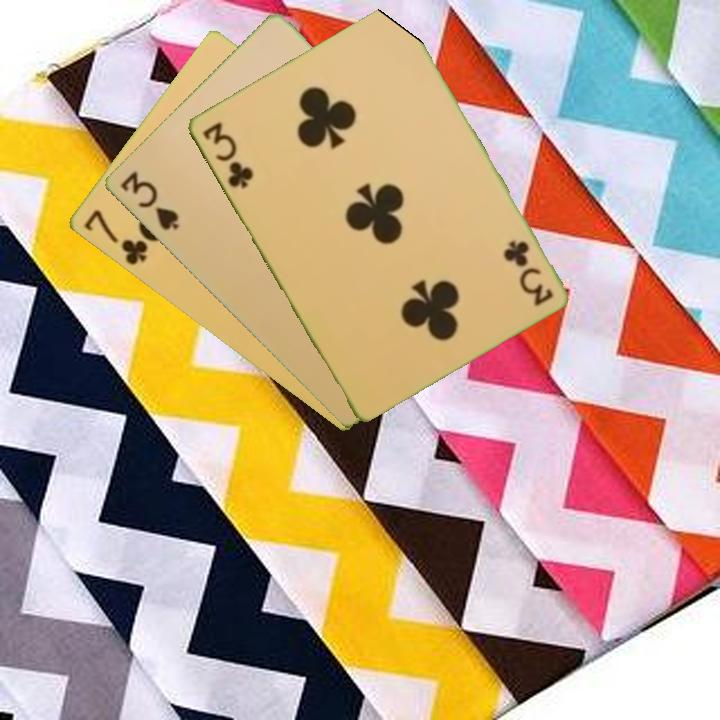3c: (198, 118, 256, 192), (500, 236, 556, 309)
3s: (116, 167, 182, 234)
7c: (79, 206, 151, 269)
